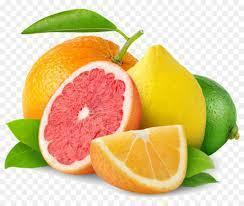lemon: (127, 44, 206, 148)
